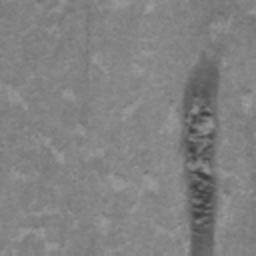Oxide scale of plate system: (180, 49, 221, 256)
